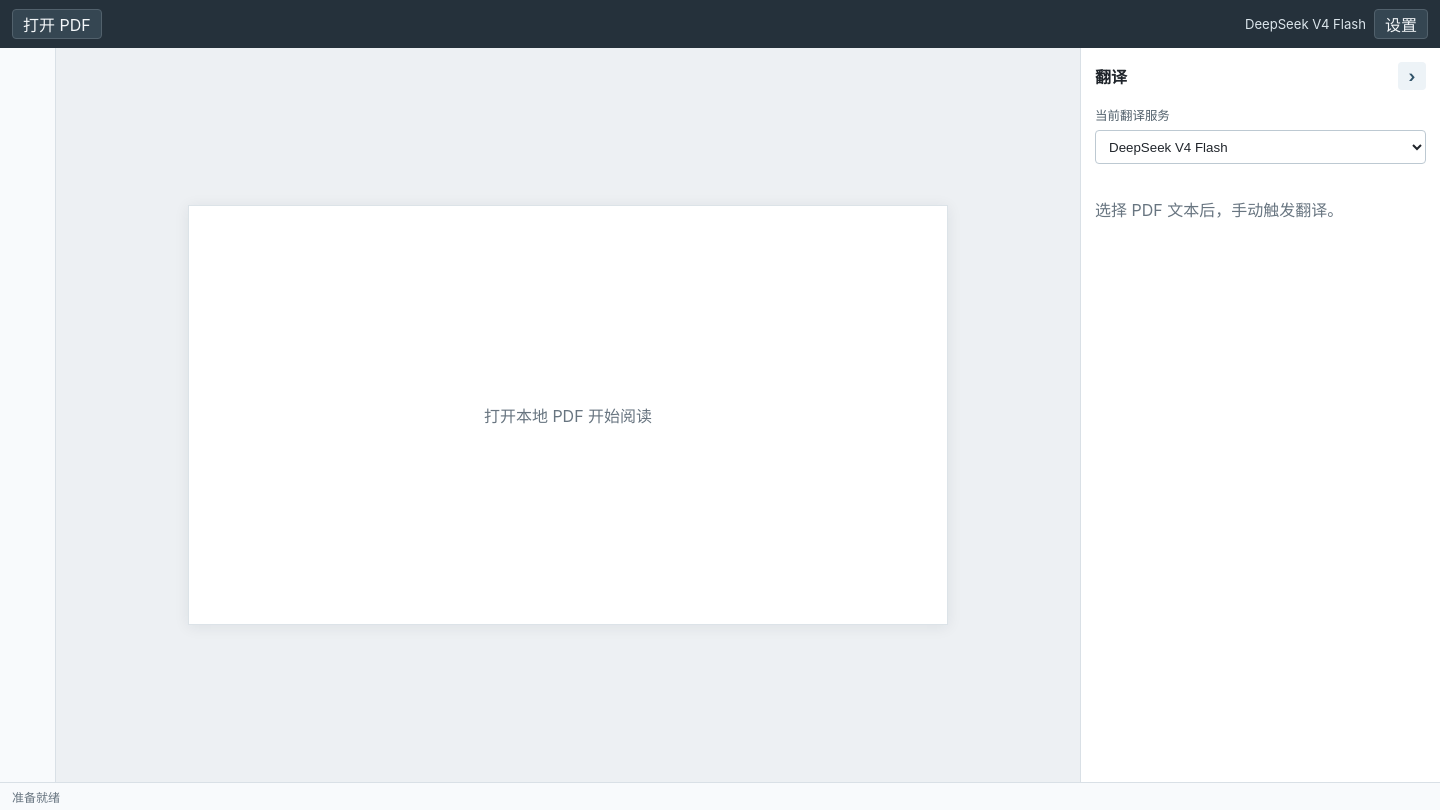
Test case: top toolbar provider label follows a provider switch
Select "Youdao" in the dropdown labelled "当前翻译服务" at (1260, 147), box [1095, 130, 1426, 164]
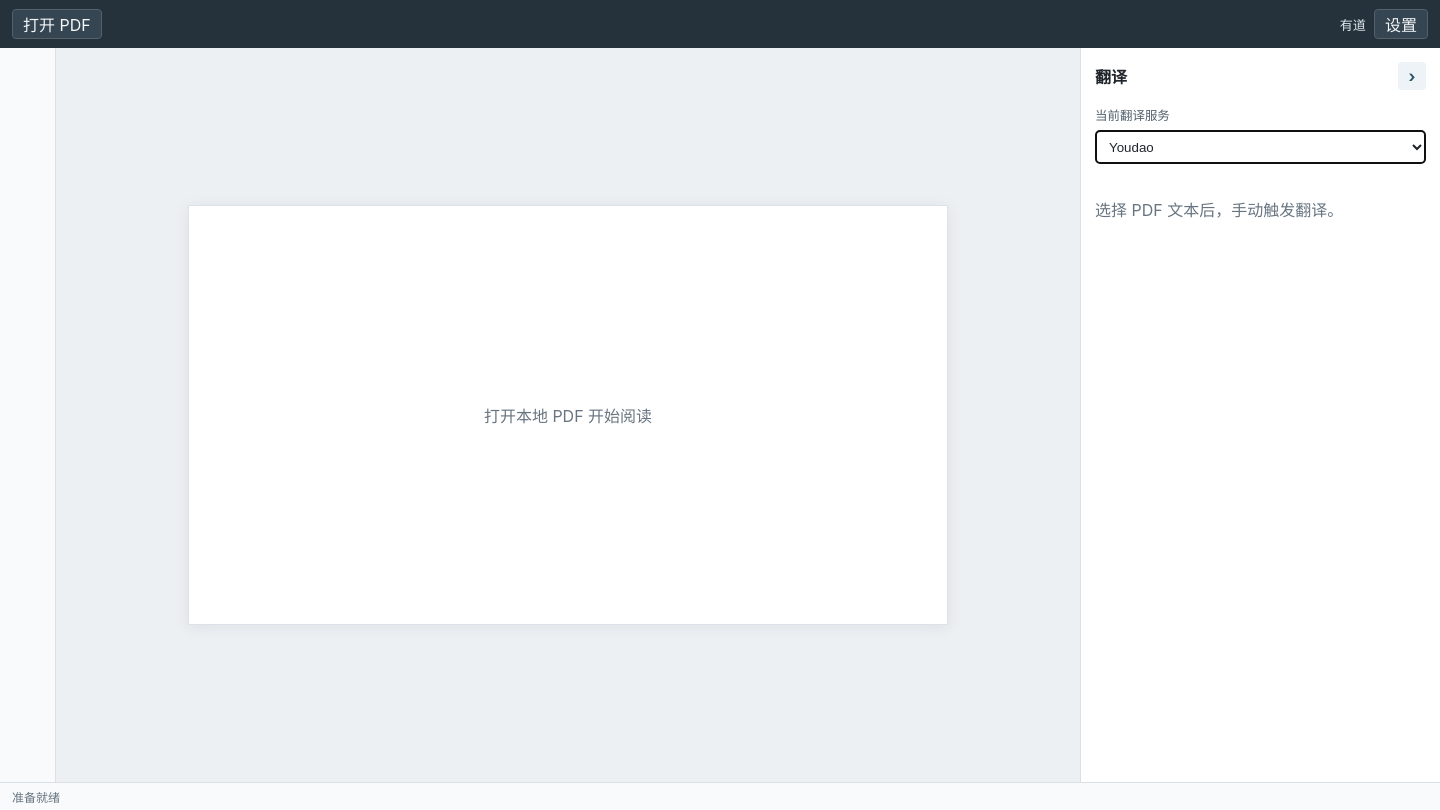
Now the text named "工具栏当前翻译服务" reads "有道", box [1340, 16, 1366, 32]
